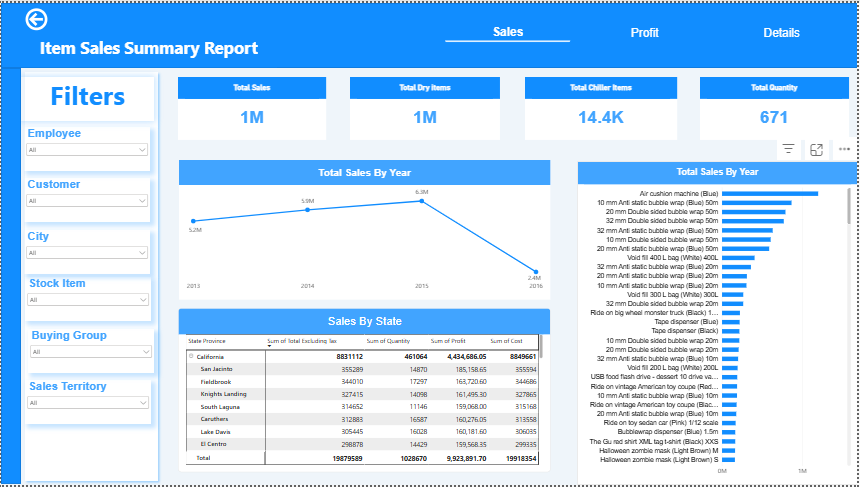

The dashboard page shown, as its layout file describes it:
{"tool":"powerbi","page":{"name":"Sales","canvas":[1920,1080],"ordinal":0},"visuals":[{"type":"pivotTable","title":"Sales By State","fields":{"Rows":["DimCity.State Province","DimCity.City"],"Values":["Sum(FactSale.Total Excluding Tax)","Sum(FactSale.Quantity)","Sum(FactSale.Profit)","Sum(FactSale.Cost)"]},"box":[395.7,683,835,368.3],"z":0},{"type":"card","title":"Total Sales","fields":{"Values":["Sum(FactSale.Quantity)"]},"box":[396.6,165.8,331.6,141.2],"z":1000},{"type":"shape","box":[0,0,1920.2,145.6],"z":2000},{"type":"shape","box":[44.8,145.6,315.9,934.4],"z":3000},{"type":"slicer","fields":{"Values":["DimEmpolyee.Employee"]},"box":[51.1,278.7,283,97.9],"z":4000},{"type":"textbox","box":[44.8,165.8,298,98.6],"z":5000},{"type":"shape","box":[0,145.6,44.8,932.1],"z":6000},{"type":"textbox","box":[44.7,74.5,572.3,70.2],"z":7000},{"type":"card","title":"Total Quantity","fields":{"Values":["CountNonNull(DimStockItem.Quantity Per Outer)"]},"box":[1566.2,165.8,333.9,141.2],"z":8000},{"type":"card","title":"Total Chiller Items","fields":{"Values":["Sum(FactSale.Total Chiller Items)"]},"box":[1174.1,165.8,340.6,141.2],"z":9000},{"type":"card","title":"Total Dry items","fields":{"Values":["Sum(FactSale.Total Dry Items)"]},"box":[782,165.8,336.1,141.2],"z":10000},{"type":"barChart","title":" Total Sales By Year","fields":{"Category":["DimStockItem.Stock Item"],"Y":["Sum(FactSale.Total Excluding Tax)"]},"box":[1290.6,354,629.6,726],"z":11000},{"type":"lineChart","title":" Total Sales By Year","fields":{"Category":["DimData.Date.Variation.Date Hierarchy.Year","DimData.Date.Variation.Date Hierarchy.Quarter","DimData.Date.Variation.Date Hierarchy.Month","DimData.Date.Variation.Date Hierarchy.Day"],"Y":["Sum(FactSale.Total Excluding Tax)"]},"box":[397.9,351.1,831.9,312.8],"z":12000},{"type":"slicer","fields":{"Values":["DimCustomer.Customer"]},"box":[51.1,391.5,283,97.9],"z":13000},{"type":"slicer","fields":{"Values":["DimCity.City"]},"box":[51.1,508.5,283,97.9],"z":14000},{"type":"slicer","fields":{"Values":["DimCustomer.Buying Group"]},"box":[59.6,729.8,283,97.9],"z":15000},{"type":"actionButton","box":[0,0,159.6,72.3],"z":17000},{"type":"pageNavigator","box":[985.1,36.2,914.9,61.7],"z":18000},{"type":"slicer","fields":{"Values":["DimStockItem.Stock Item"]},"box":[53.8,613.9,283,97.9],"z":19000},{"type":"slicer","fields":{"Values":["DimCity.Sales Territory"]},"box":[53.8,844.7,283,97.9],"z":19001}]}

Visuals, with their boxes in screenshot pixels (x1, y1, x2, y2), scaled from the page's 1920x1080 canvas onto the 860x487 screenshot:
"Sales By State" pivotTable: (x1=177, y1=308, x2=551, y2=474)
"Total Sales" card: (x1=178, y1=75, x2=326, y2=138)
shape: (x1=0, y1=0, x2=859, y2=66)
shape: (x1=20, y1=66, x2=162, y2=486)
slicer - DimEmpolyee.Employee: (x1=23, y1=126, x2=150, y2=170)
textbox: (x1=20, y1=75, x2=154, y2=119)
shape: (x1=0, y1=66, x2=20, y2=486)
textbox: (x1=20, y1=34, x2=276, y2=65)
"Total Quantity" card: (x1=702, y1=75, x2=851, y2=138)
"Total Chiller Items" card: (x1=526, y1=75, x2=678, y2=138)
"Total Dry items" card: (x1=350, y1=75, x2=501, y2=138)
" Total Sales By Year" barChart: (x1=578, y1=160, x2=859, y2=486)
" Total Sales By Year" lineChart: (x1=178, y1=158, x2=551, y2=299)
slicer - DimCustomer.Customer: (x1=23, y1=177, x2=150, y2=221)
slicer - DimCity.City: (x1=23, y1=229, x2=150, y2=273)
slicer - DimCustomer.Buying Group: (x1=27, y1=329, x2=153, y2=373)
actionButton: (x1=0, y1=0, x2=71, y2=33)
pageNavigator: (x1=441, y1=16, x2=851, y2=44)
slicer - DimStockItem.Stock Item: (x1=24, y1=277, x2=151, y2=321)
slicer - DimCity.Sales Territory: (x1=24, y1=381, x2=151, y2=425)
